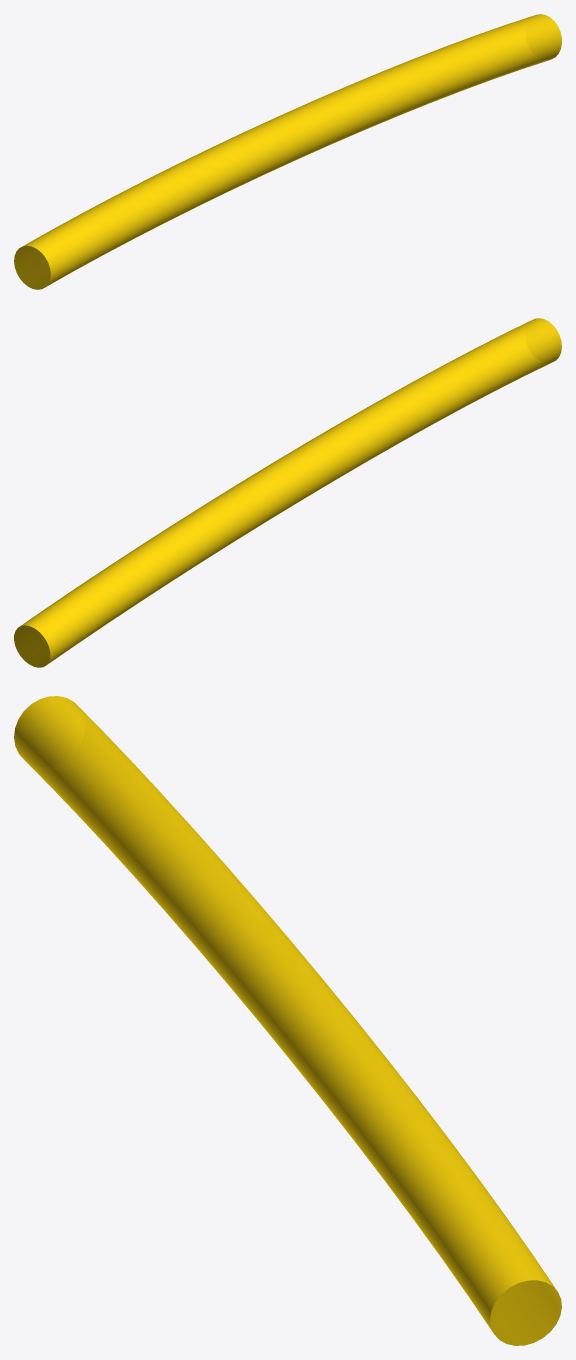
Rendered from Event_421115418_track_184.fbx.
3 renders of one model, top to bottom at view 1: azimuth 30°, elevation 25°; view 2: azimuth 210°, elevation 25°; view 3: azimuth 270°, elevation 25°, orthographic. The views are drawn at different scales.
Visible parts, largest first — view 1: Model; view 2: Model; view 3: Model.
Boxes of the visible parts, <box> form: Model: <box>14,14,561,289</box>; Model: <box>14,318,561,667</box>; Model: <box>14,696,561,1345</box>.
Size of the model in its own units: 0.6576 by 0.0767 by 0.2861.
